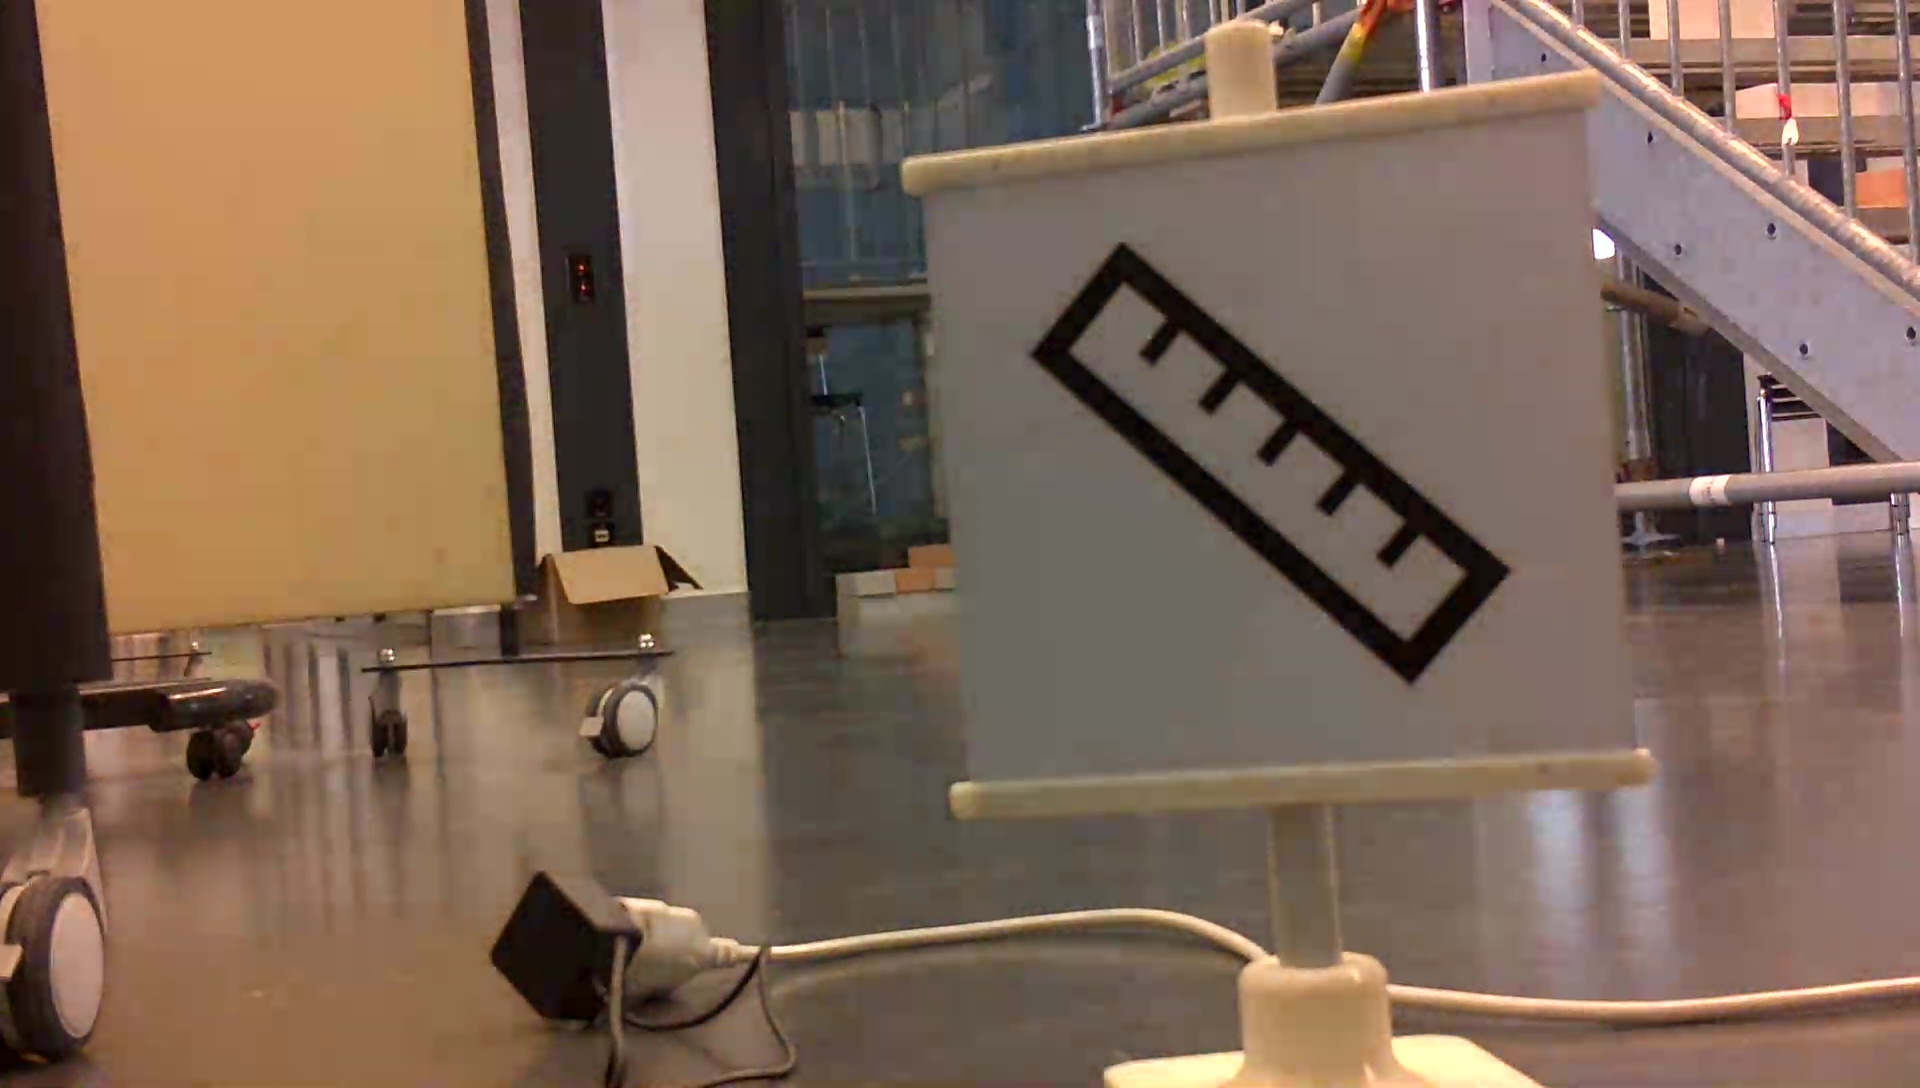ruler: (1017, 214, 1513, 694)
